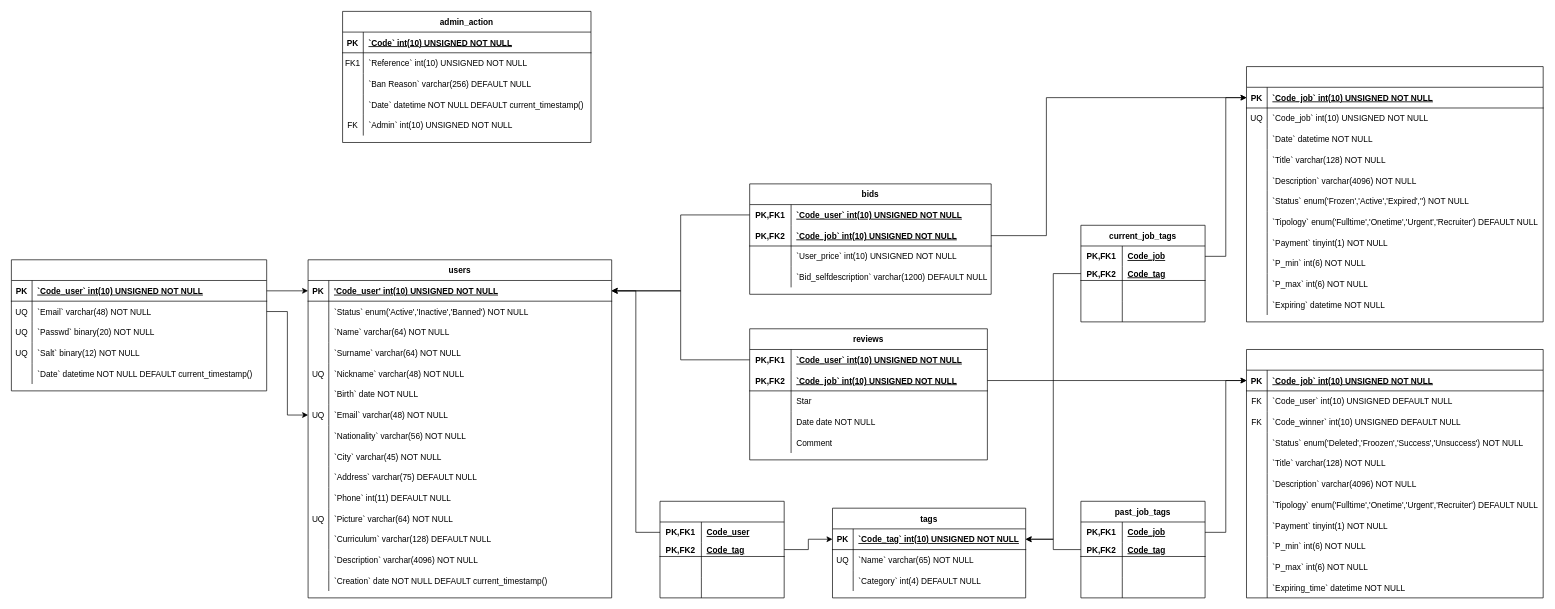
This 1555x609 diagram has some shape labels left out. The box of each missing label's shape, as (x1, y1, x2, y2) in pixels:
credentials: (11, 259, 267, 391)
current_jobs: (1246, 66, 1543, 322)
past_job: (1246, 349, 1543, 598)
user_tags: (659, 501, 784, 598)
